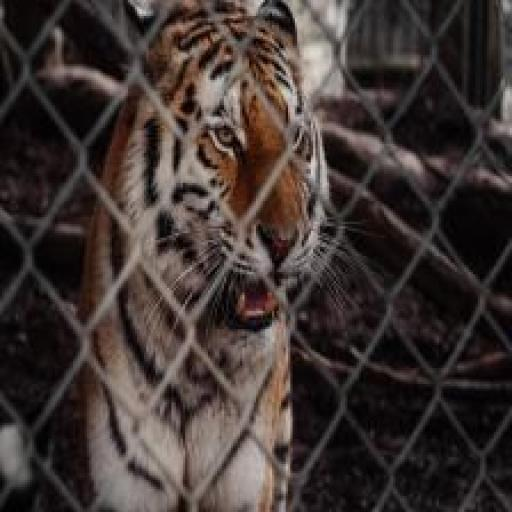Tiger: (57, 0, 362, 512)
